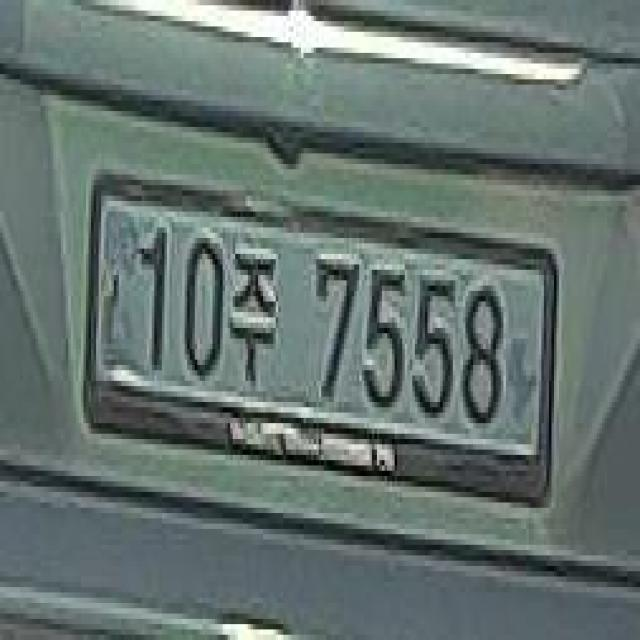EV_plate: (87, 151, 559, 522)
